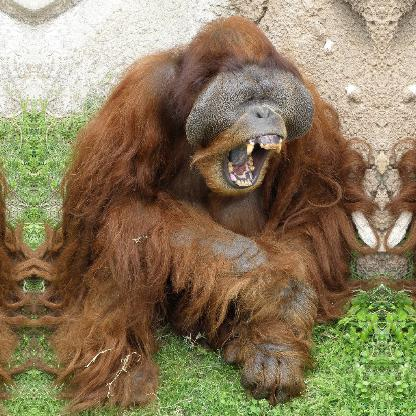Monkey: (46, 27, 356, 333)
